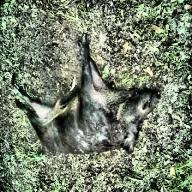boar: (17, 49, 167, 158)
